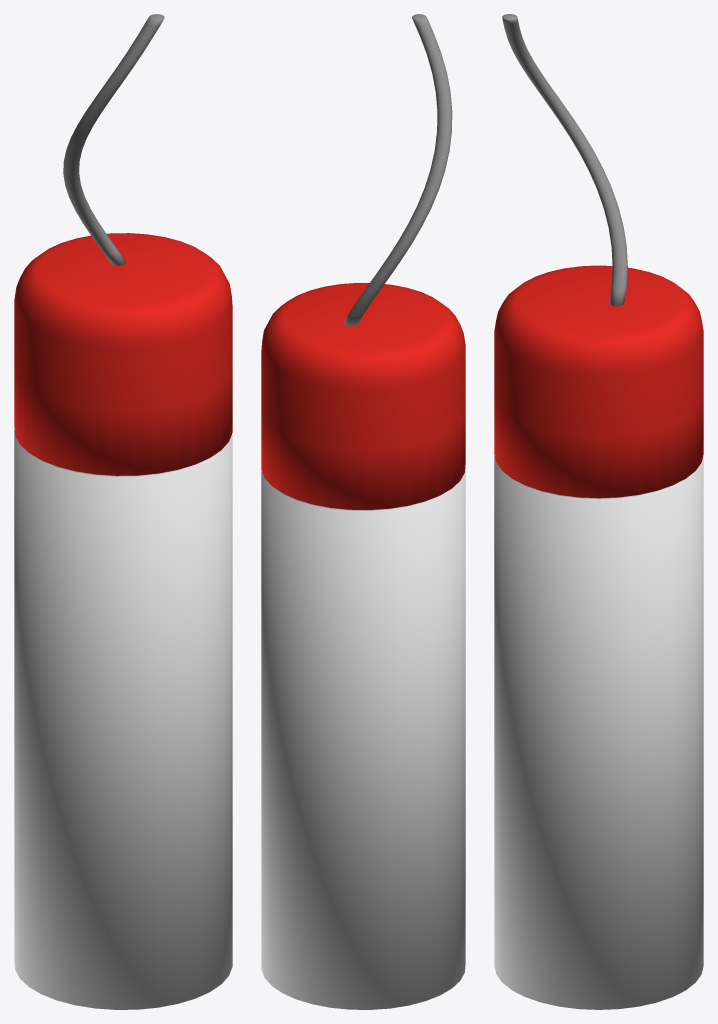
Rendered from solder.fbx.
3 renders of one model, left to right at view 1: azimuth 30°, elevation 25°; view 2: azimuth 150°, elevation 25°; view 3: azimuth 270°, elevation 25°, orthographic. The views are drawn at different scales.
Parts seen in each view (by area): view 1: solder; view 2: solder; view 3: solder.
Boxes of the visible parts, <box> form: solder: <box>14,14,232,1009</box>; solder: <box>261,14,465,1009</box>; solder: <box>494,14,703,1009</box>.
Bounding box in the file's own units: 3.58 × 17.78 × 3.58.
